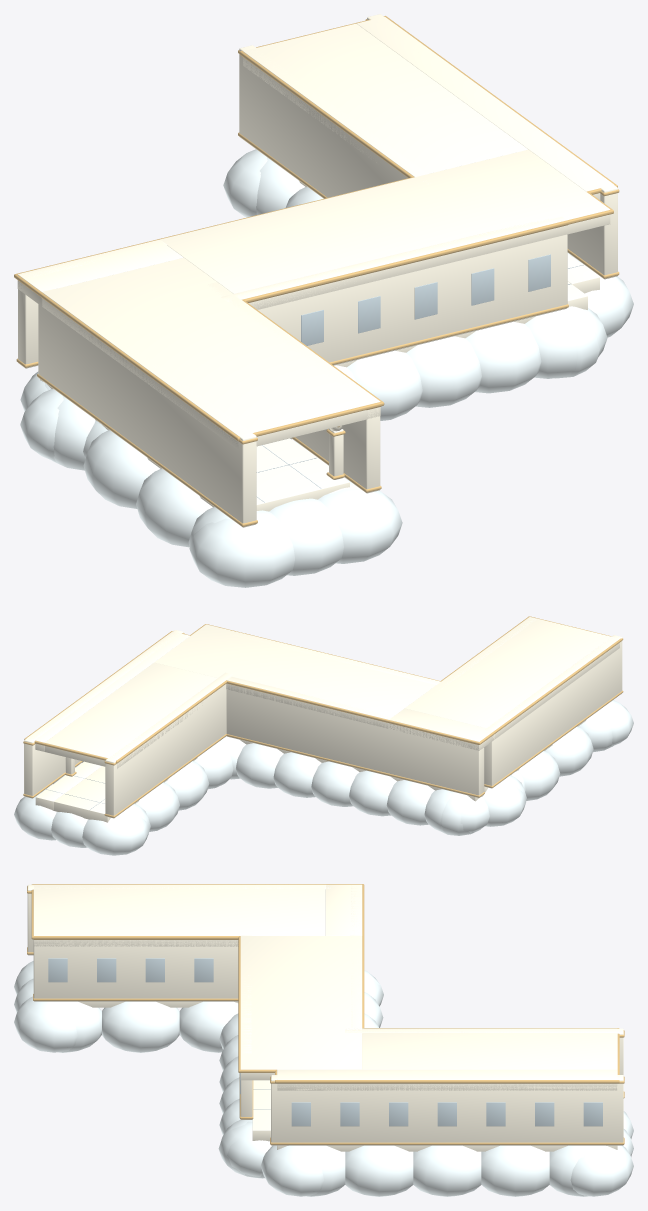
The model's file is sky_sector_tunnel.glb.
3 views of the same model, one above another, from view 1: azimuth 30°, elevation 25°; view 2: azimuth 150°, elevation 25°; view 3: azimuth 270°, elevation 25° (orthographic). The views are drawn at different scales.
Visible parts, largest first — view 1: sky_sector_tunnel_surface; view 2: sky_sector_tunnel_surface; view 3: sky_sector_tunnel_surface.
Boxes of the visible parts, x1,y1,x2,y2 form: sky_sector_tunnel_surface: (14, 14, 633, 587); sky_sector_tunnel_surface: (14, 616, 633, 855); sky_sector_tunnel_surface: (14, 884, 633, 1196).
Size of the model in its own units: 42.08 by 10.95 by 50.96.
